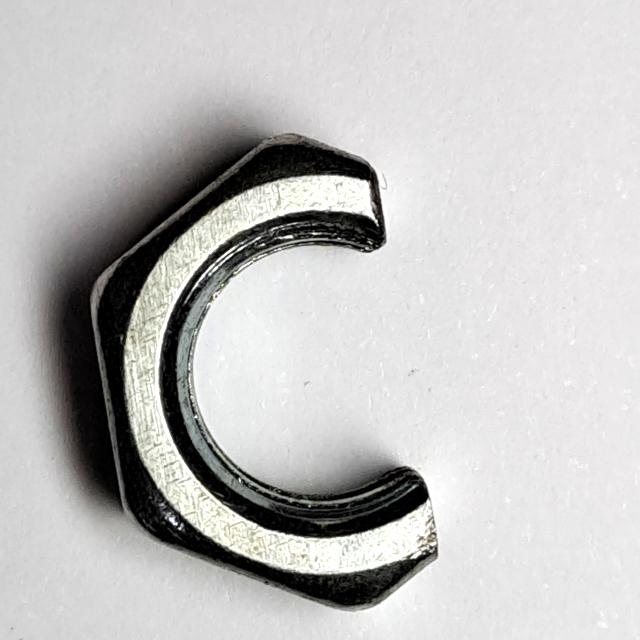Fracture: (76, 113, 466, 623)
